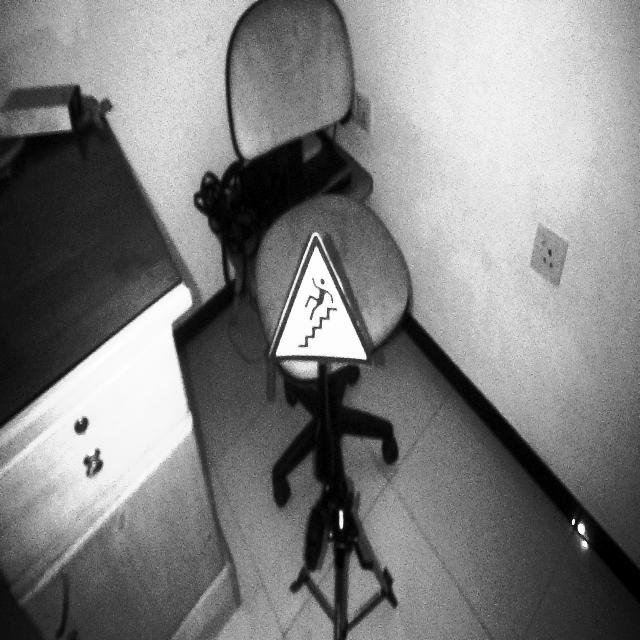Sign: (265, 230, 374, 370)
